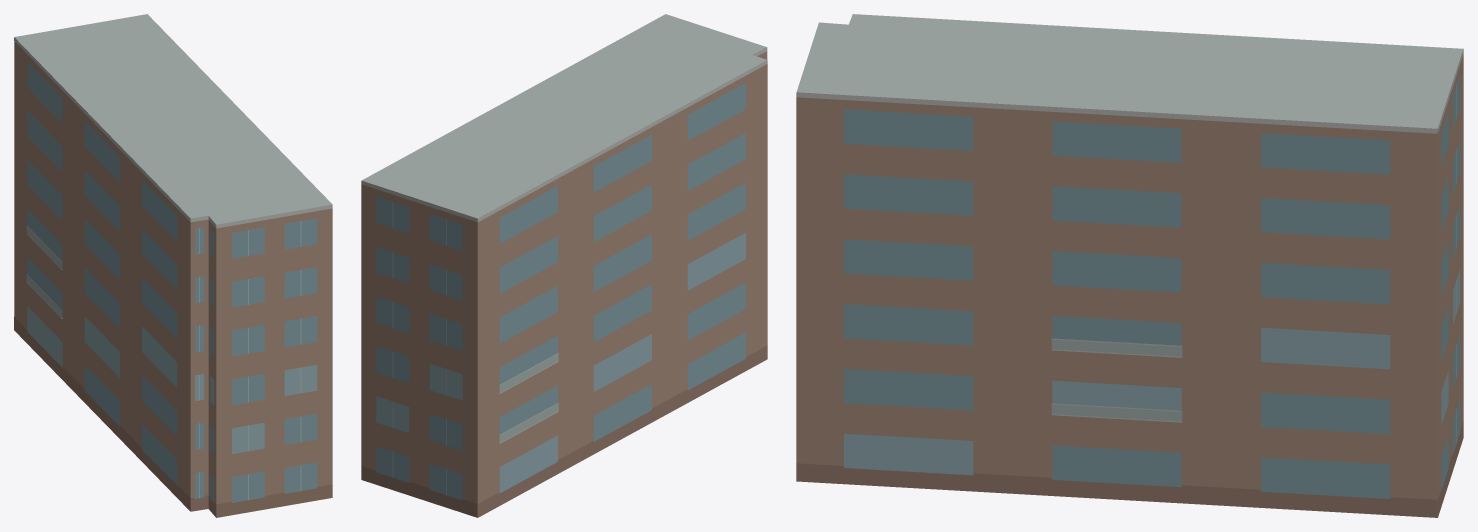
Rendered from survey-upis-32522579.glb.
The picture shows the model from 3 angles, left to right: view 1: azimuth 30°, elevation 25°; view 2: azimuth 150°, elevation 25°; view 3: azimuth 270°, elevation 25°; orthographic projection. The views are drawn at different scales.
Parts seen in each view (by area): view 1: survey-upis-32522579.tmp; view 2: survey-upis-32522579.tmp; view 3: survey-upis-32522579.tmp.
Boxes of the visible parts, x1,y1,x2,y2 form: survey-upis-32522579.tmp: (14,14,332,517); survey-upis-32522579.tmp: (361,14,767,517); survey-upis-32522579.tmp: (796,14,1463,517).
Bounding box in the file's own units: 12.03 × 19 × 29.53.
